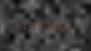nine: (33, 19, 40, 30)
one: (49, 20, 56, 31), (65, 20, 72, 31)
seven: (17, 19, 24, 30)
three: (41, 19, 48, 31), (25, 19, 32, 30)
zero: (57, 20, 64, 31)
